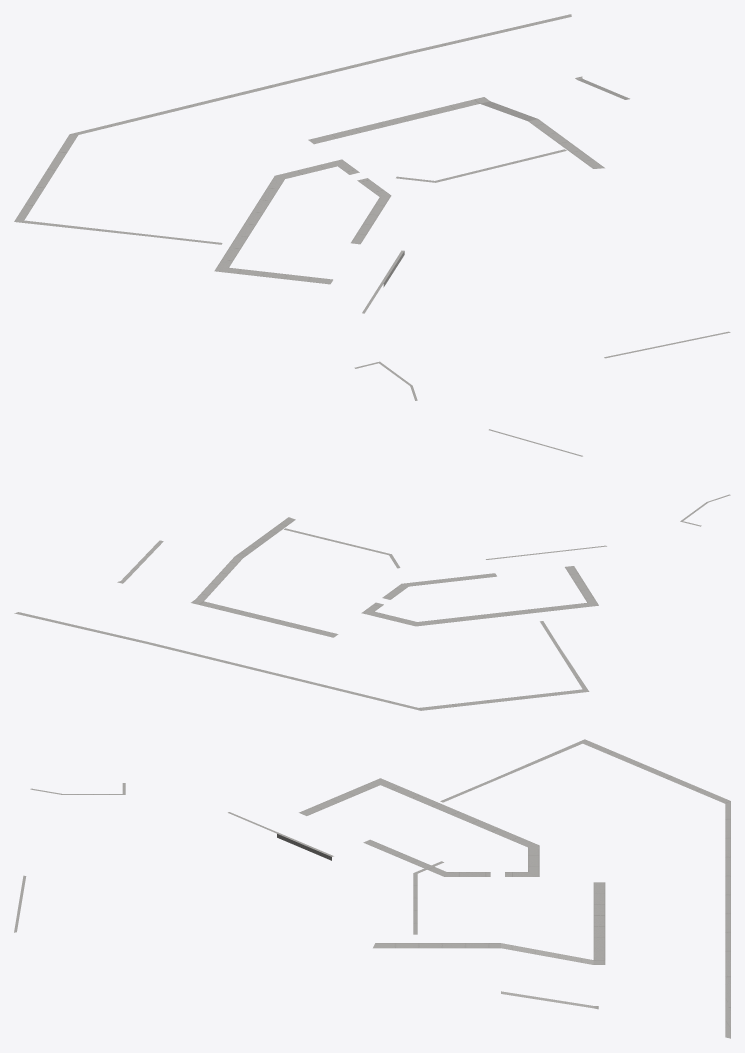
The model's file is kd_stage_136282_3_20_bounded.glb.
The picture shows the model from 3 angles, top to bottom: view 1: azimuth 30°, elevation 25°; view 2: azimuth 150°, elevation 25°; view 3: azimuth 270°, elevation 25°; orthographic projection. The views are drawn at different scales.
Parts seen in each view (by area): view 1: kd_stage_136282_3_20_bounded; view 2: kd_stage_136282_3_20_bounded; view 3: kd_stage_136282_3_20_bounded.
Boxes of the visible parts, left/top/right/bottom form: kd_stage_136282_3_20_bounded: left=14, top=14, right=730, bottom=400; kd_stage_136282_3_20_bounded: left=14, top=429, right=730, bottom=710; kd_stage_136282_3_20_bounded: left=14, top=739, right=730, bottom=1038.
Bounding box in the file's own units: 24.32 × 0.932 × 24.79.
1 material, 1 textured.
